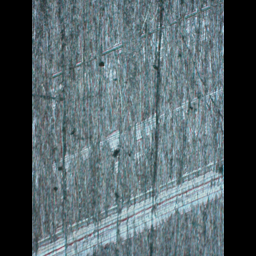d: (32, 85, 223, 184), (34, 156, 223, 255)
